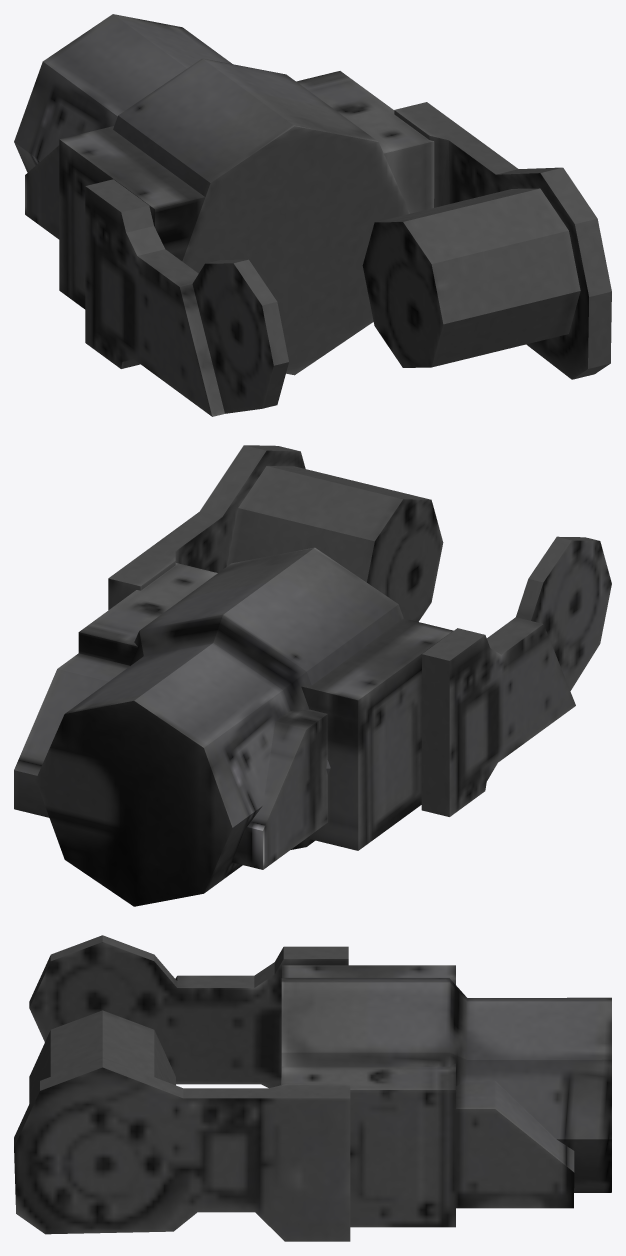
Rendered from l_larm.dae.
The picture shows the model from 3 angles, top to bottom: view 1: azimuth 30°, elevation 25°; view 2: azimuth 150°, elevation 25°; view 3: azimuth 270°, elevation 25°; orthographic projection. The views are drawn at different scales.
Visible parts, largest first — view 1: drc_l_elbow_rx; view 2: drc_l_elbow_rx; view 3: drc_l_elbow_rx.
Boxes of the visible parts, x1=… form: drc_l_elbow_rx: x1=14, y1=14, x2=611, y2=416; drc_l_elbow_rx: x1=14, y1=445, x2=611, y2=906; drc_l_elbow_rx: x1=14, y1=935, x2=611, y2=1241.
Bounding box in the file's own units: 0.1333 × 0.2219 × 0.0927.
Materials: 1 (1 with a texture image).
